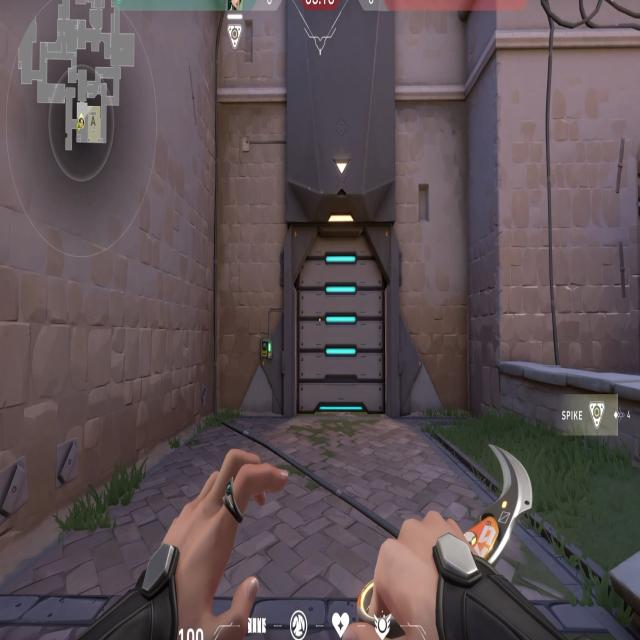A_Door: (286, 178, 397, 432)
